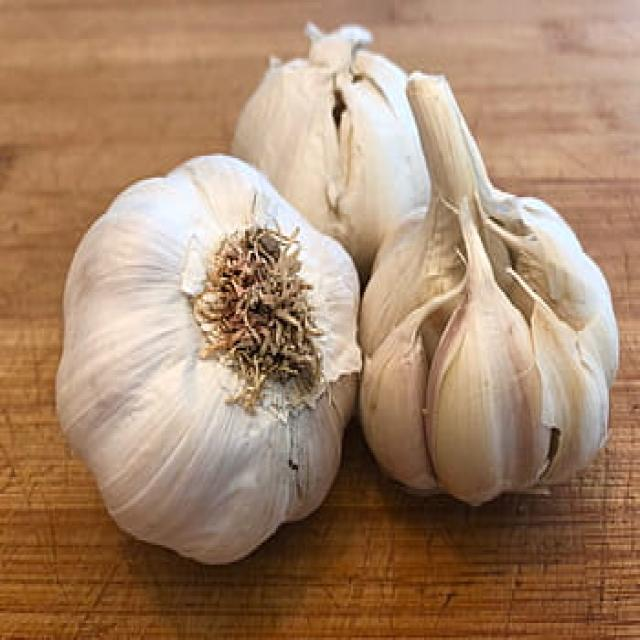garlic: (48, 153, 365, 580)
